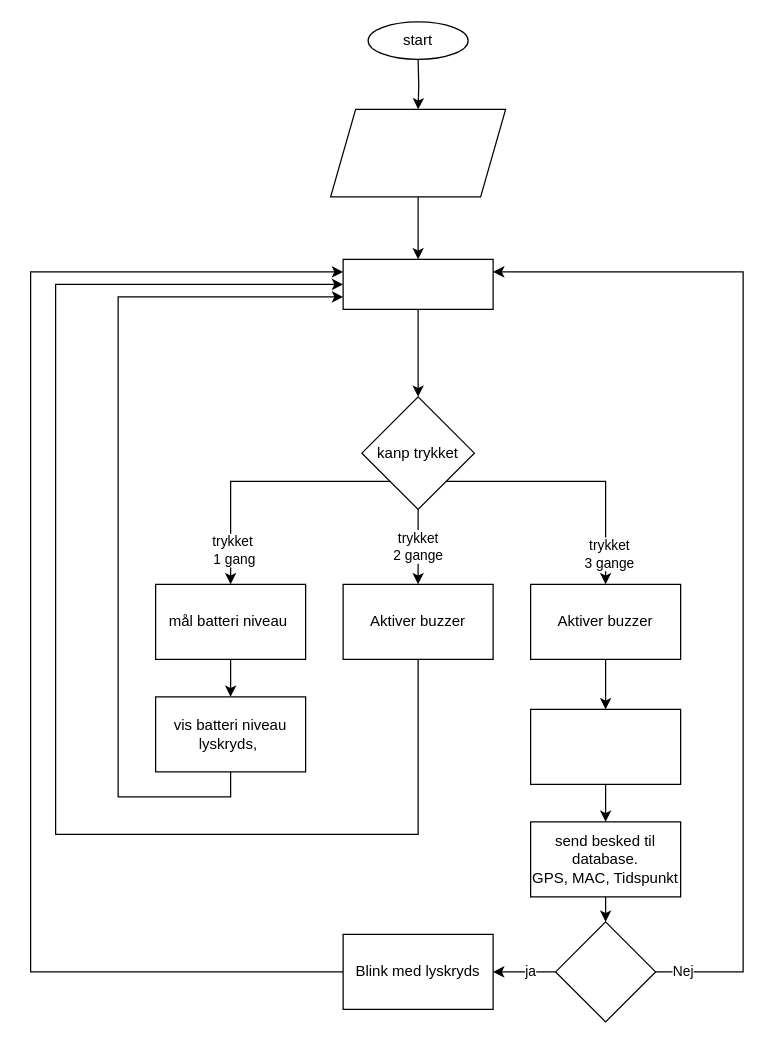
This 775x1044 diagram has some shape labels left out. Each missing label, with the box of its shape:
feedback fra database: (554, 921, 656, 1022)
gå i dvale: (342, 258, 493, 309)
importer biblioteker time, gps, sleep: (329, 108, 506, 197)
læs GPS position: (529, 708, 681, 784)
